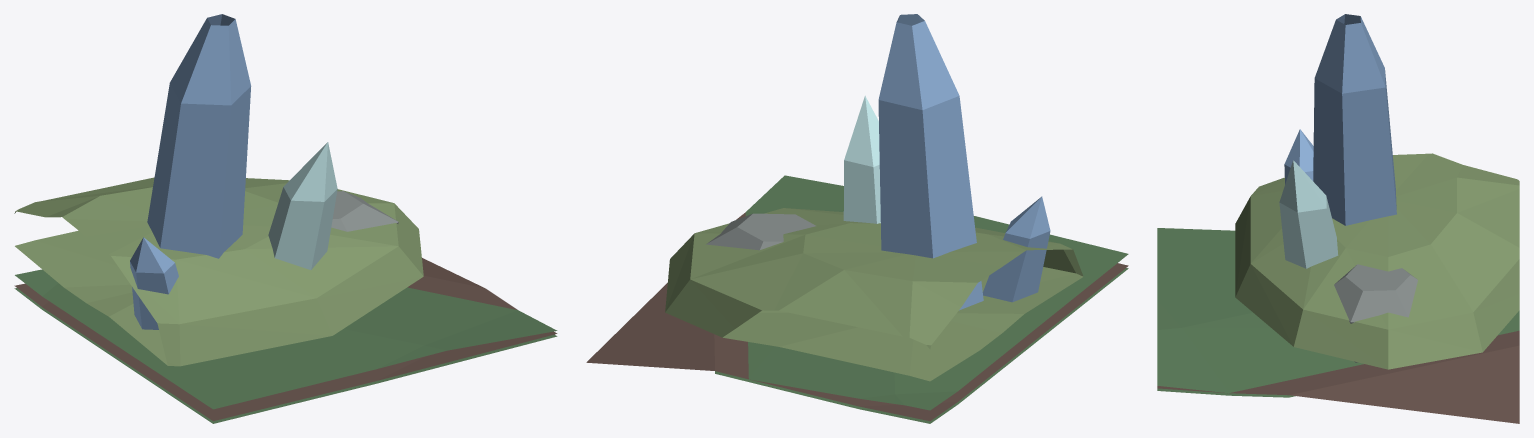
The model's file is cell_303.obj.
3 renders of one model, left to right at view 1: azimuth 30°, elevation 25°; view 2: azimuth 150°, elevation 25°; view 3: azimuth 270°, elevation 25°, orthographic. The views are drawn at different scales.
Bounding box in the file's own units: 1 × 0.9198 × 1.
